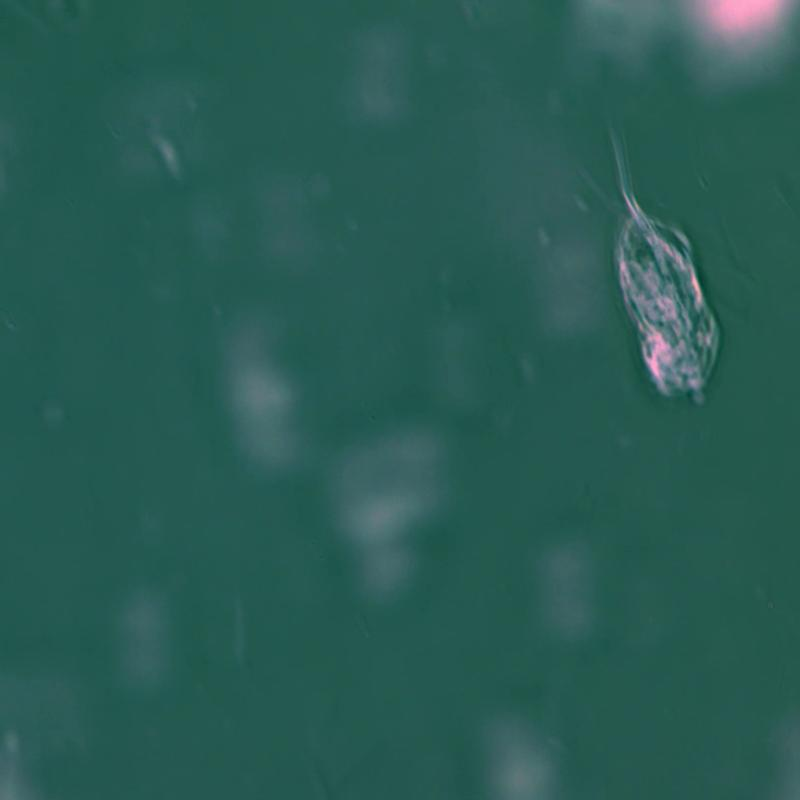depth:40: (580, 113, 761, 445)
